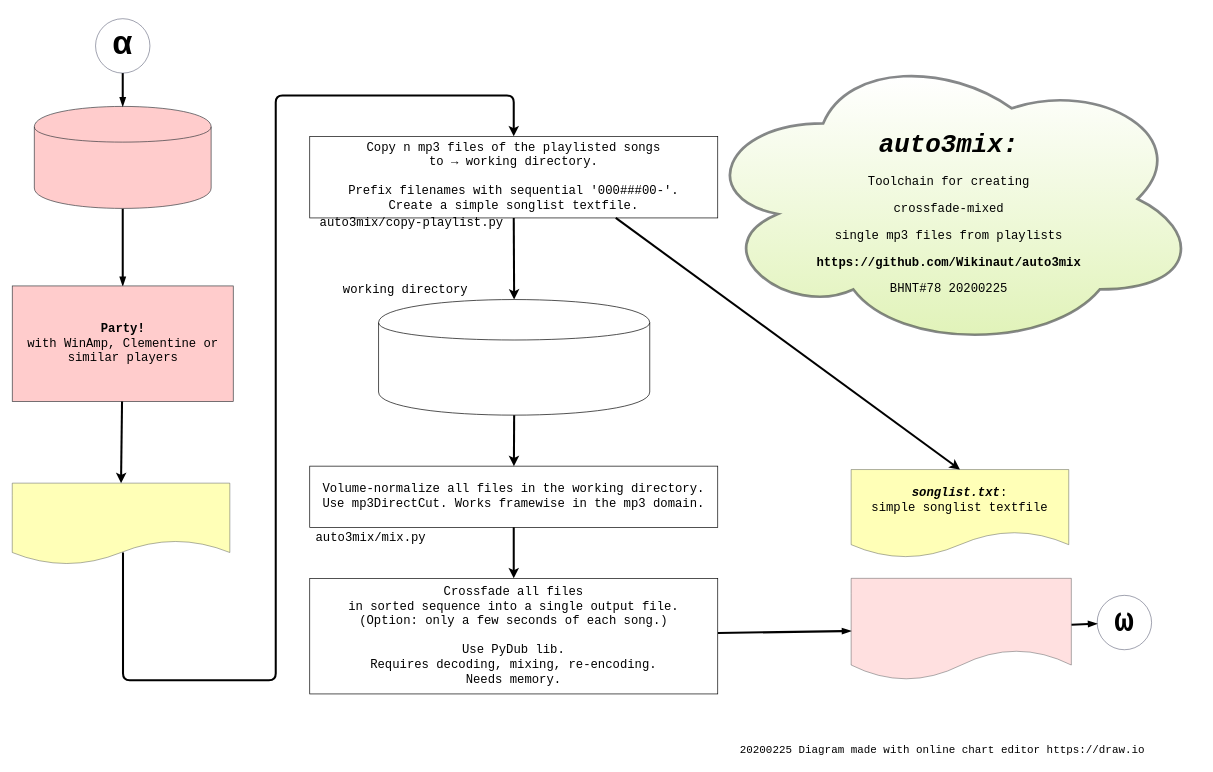
The diagram is 1213 pixels wide and 772 high, and some of its shapes have lost their labels. Here are the shapes that lost their labels. From the top down, the centre of each, then its label:
pixel 122 157: Jukebox music songs (many mp3 files)
pixel 514 357: Playlisted mp3 files only with sequential filenames in the working directory
pixel 121 523: Playlist.m3u : pointer to n songs
pixel 960 629: mix.mp3 : the single output file crossfaded normalized songs
